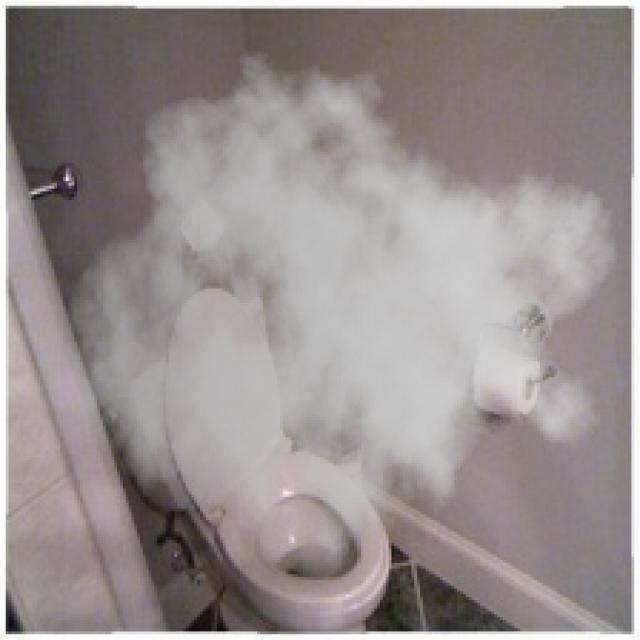Smoke: (65, 37, 620, 594)
